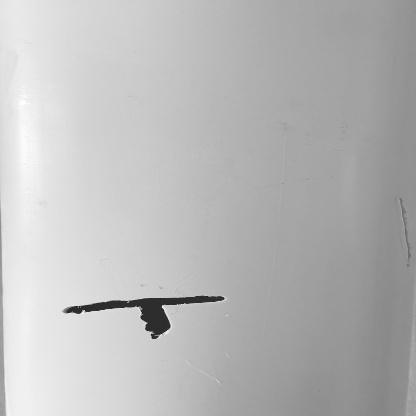fengxi: (57, 299, 228, 311)
kongdong: (132, 310, 183, 345)
sunshang: (396, 196, 411, 272)
